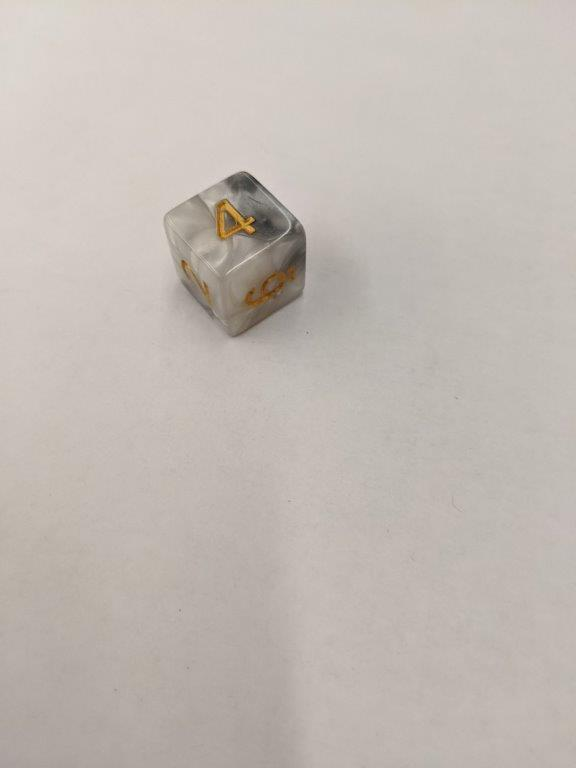d6-4: (162, 169, 308, 339)
